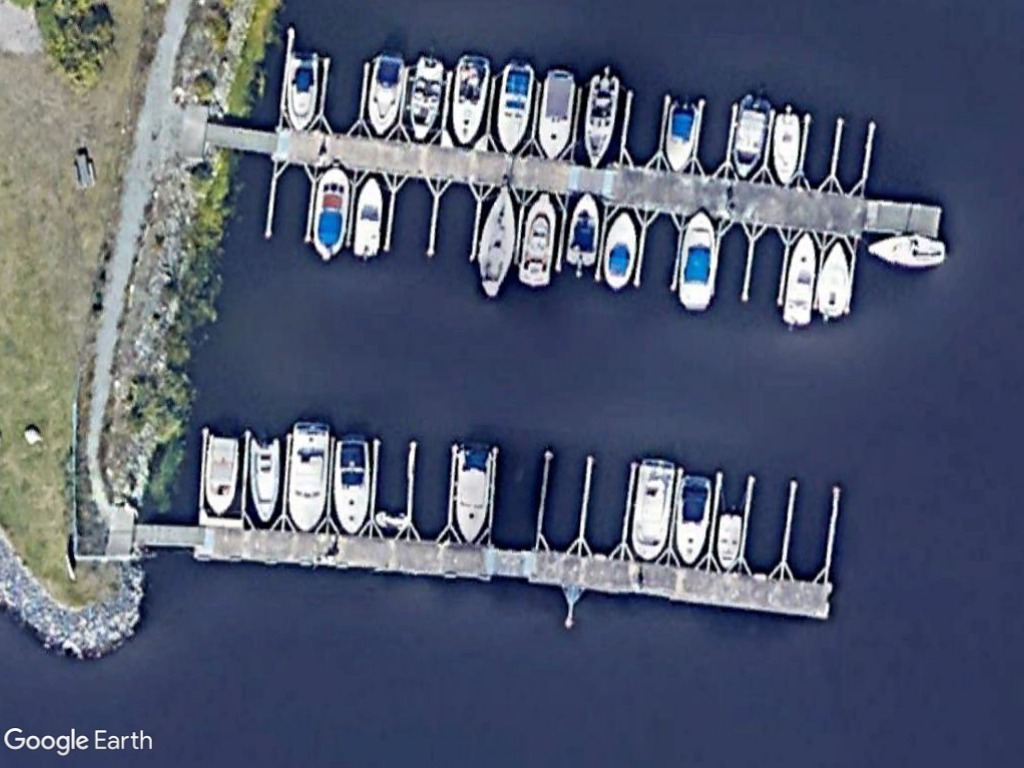boat: (284, 420, 333, 533), (628, 456, 676, 563), (450, 437, 497, 545), (673, 206, 720, 313), (445, 52, 494, 147), (477, 183, 517, 298), (515, 186, 559, 289), (330, 433, 373, 537), (493, 56, 536, 154), (401, 53, 447, 144), (534, 64, 577, 161), (726, 96, 773, 184), (580, 68, 620, 171), (309, 161, 351, 259), (672, 473, 715, 568), (364, 50, 409, 137), (598, 205, 642, 293), (780, 232, 819, 325), (244, 433, 283, 526), (349, 171, 389, 261), (863, 231, 948, 273), (812, 238, 852, 323), (561, 190, 604, 269), (281, 48, 320, 133), (203, 432, 242, 517), (663, 96, 701, 176), (767, 110, 804, 189), (715, 509, 743, 573)
